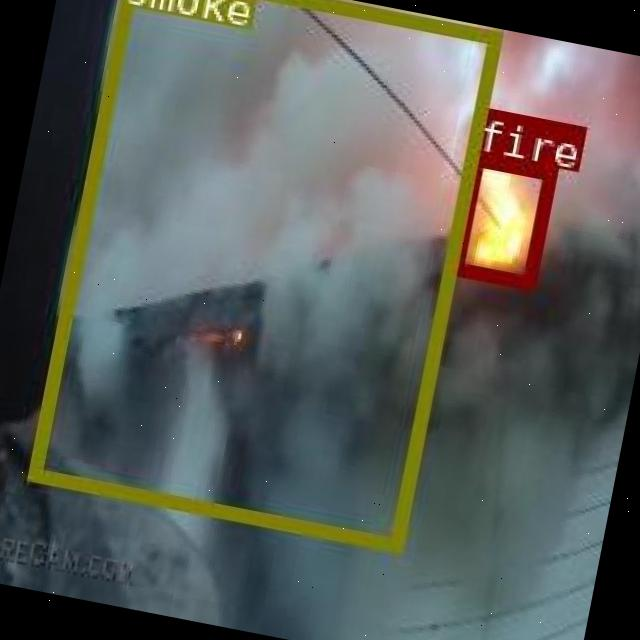fire: (446, 150, 556, 286)
smoke: (25, 0, 498, 549)
